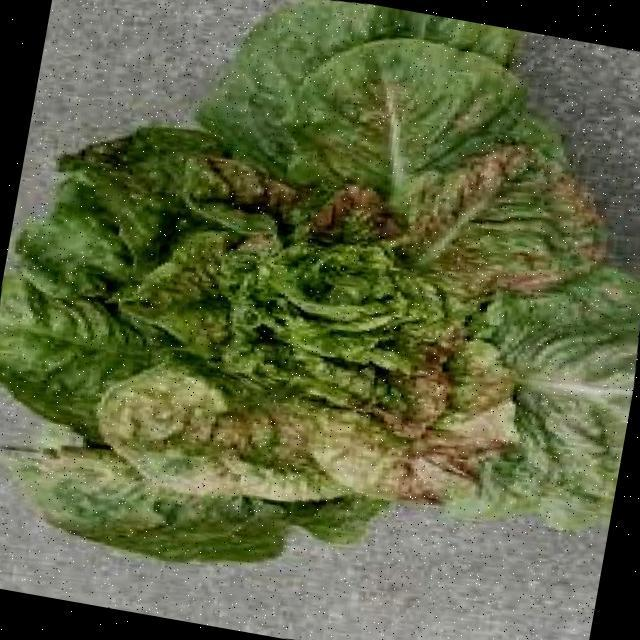Lettuce Mosaic Virus: (71, 105, 597, 549)
